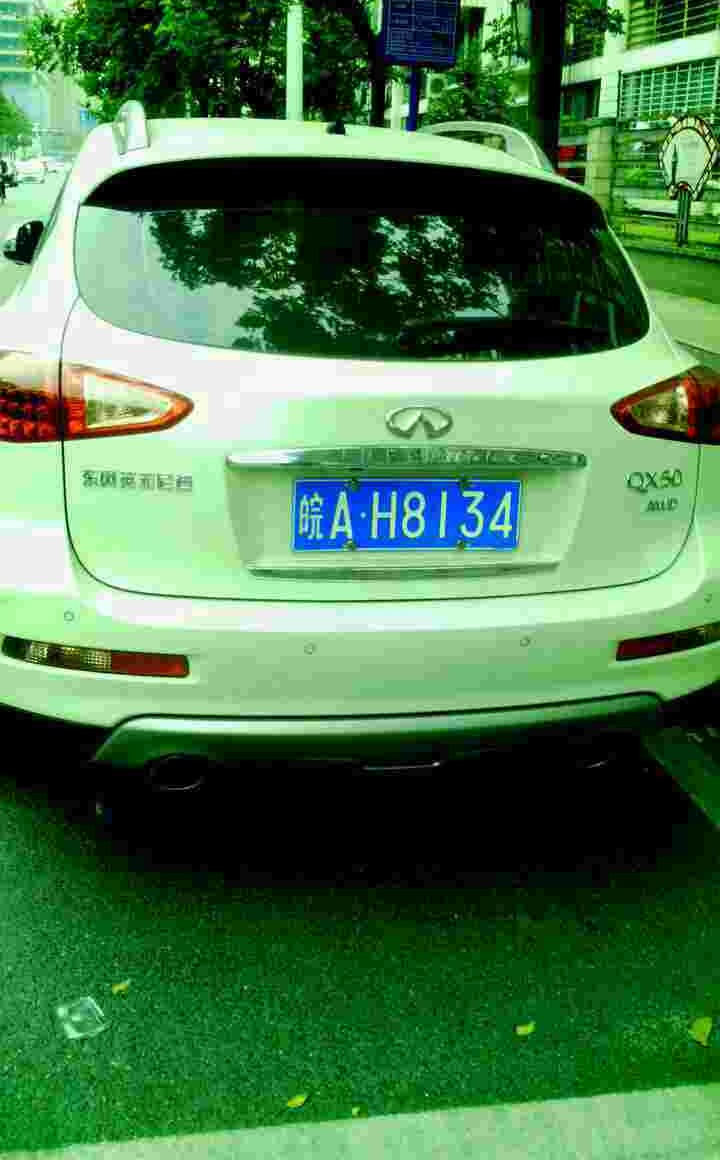license_plate: (297, 468, 517, 544)
